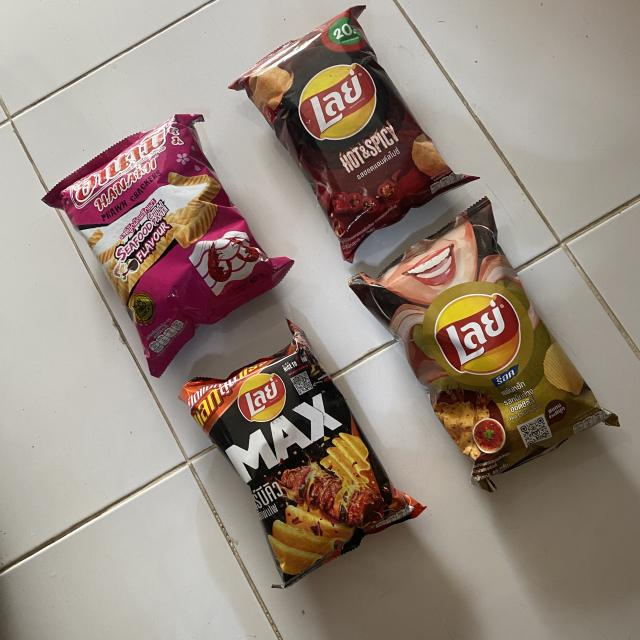plastik: (349, 198, 619, 491), (42, 114, 292, 376), (180, 320, 424, 588), (230, 5, 478, 262)
